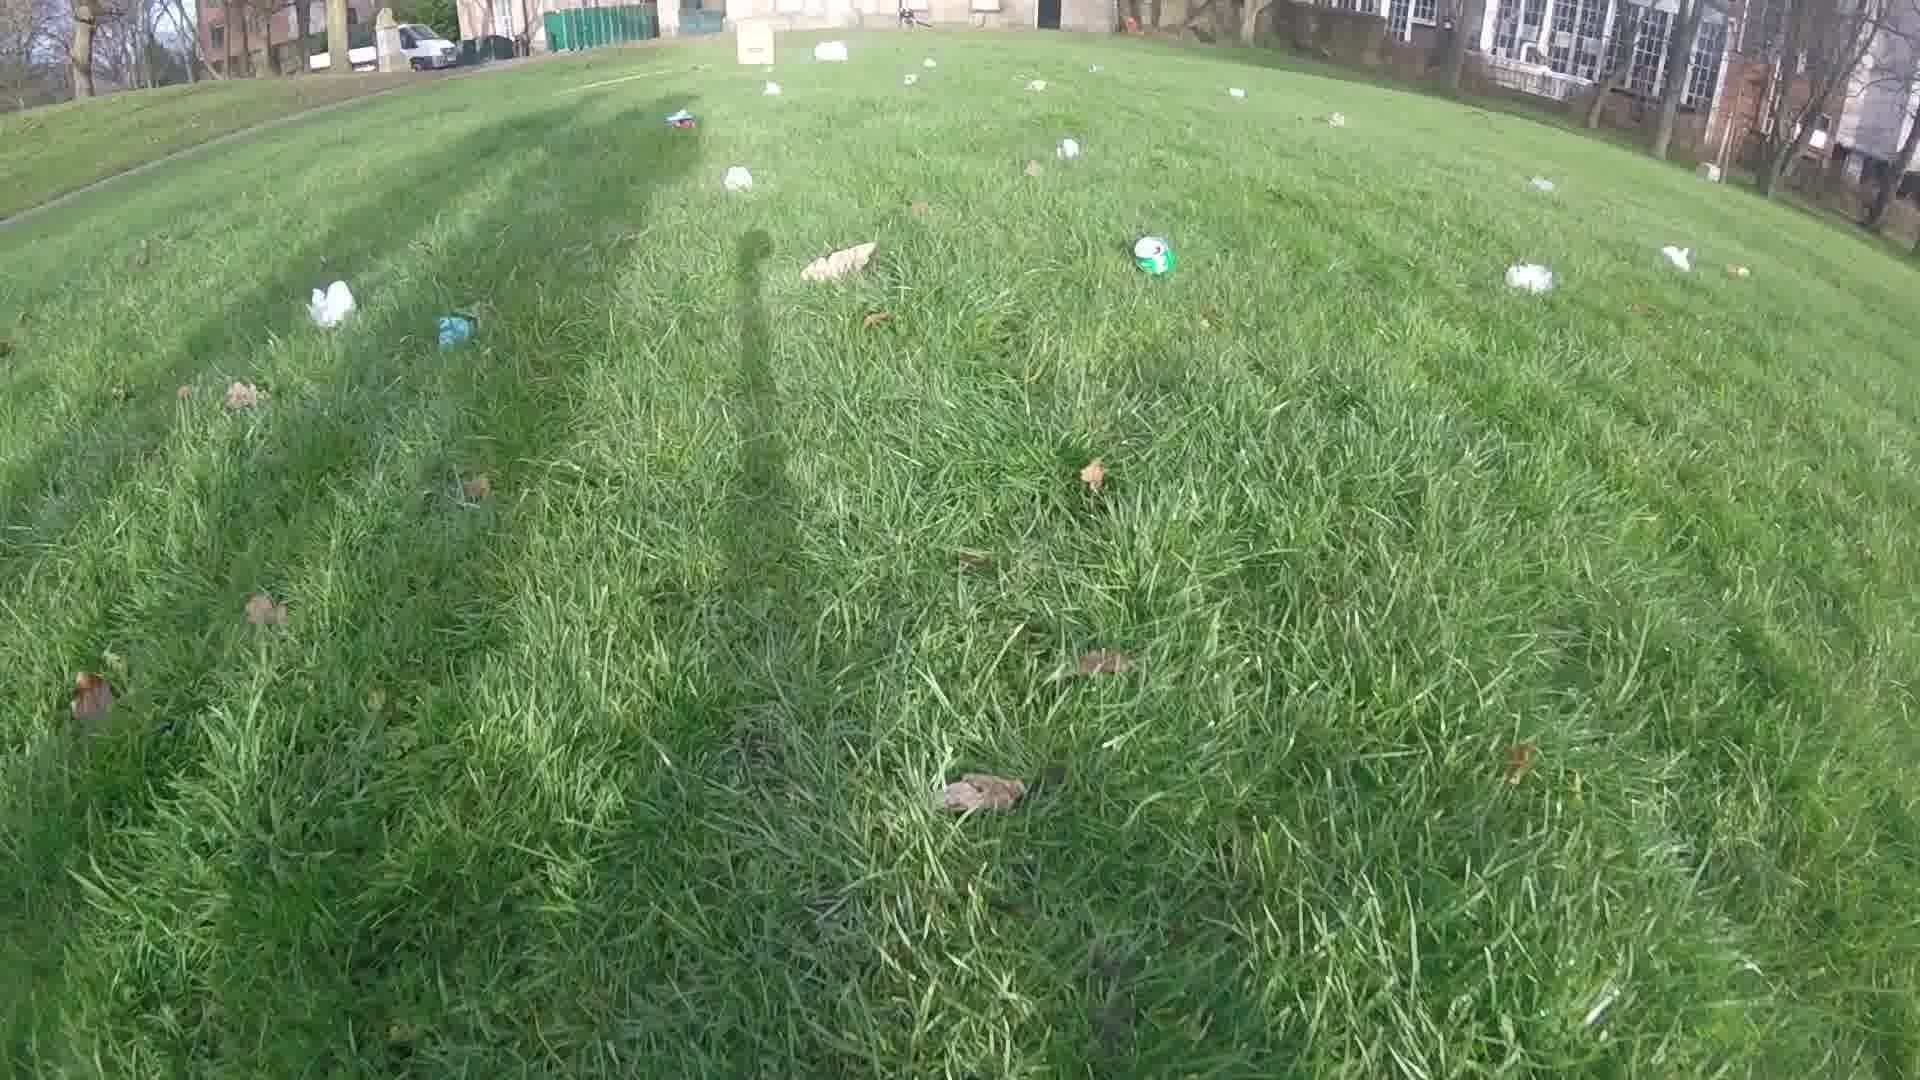litter: (800, 245, 874, 282), (307, 282, 357, 324), (1129, 237, 1175, 277), (733, 24, 775, 66), (1507, 260, 1556, 293), (435, 314, 473, 352), (723, 167, 756, 194), (816, 40, 851, 63), (1662, 243, 1691, 270), (1720, 258, 1749, 281), (667, 109, 698, 131), (1055, 138, 1079, 160), (1528, 175, 1556, 193), (1320, 111, 1344, 127), (1025, 78, 1046, 94), (1230, 87, 1246, 100), (766, 80, 778, 95), (920, 59, 938, 69), (903, 75, 918, 83)
